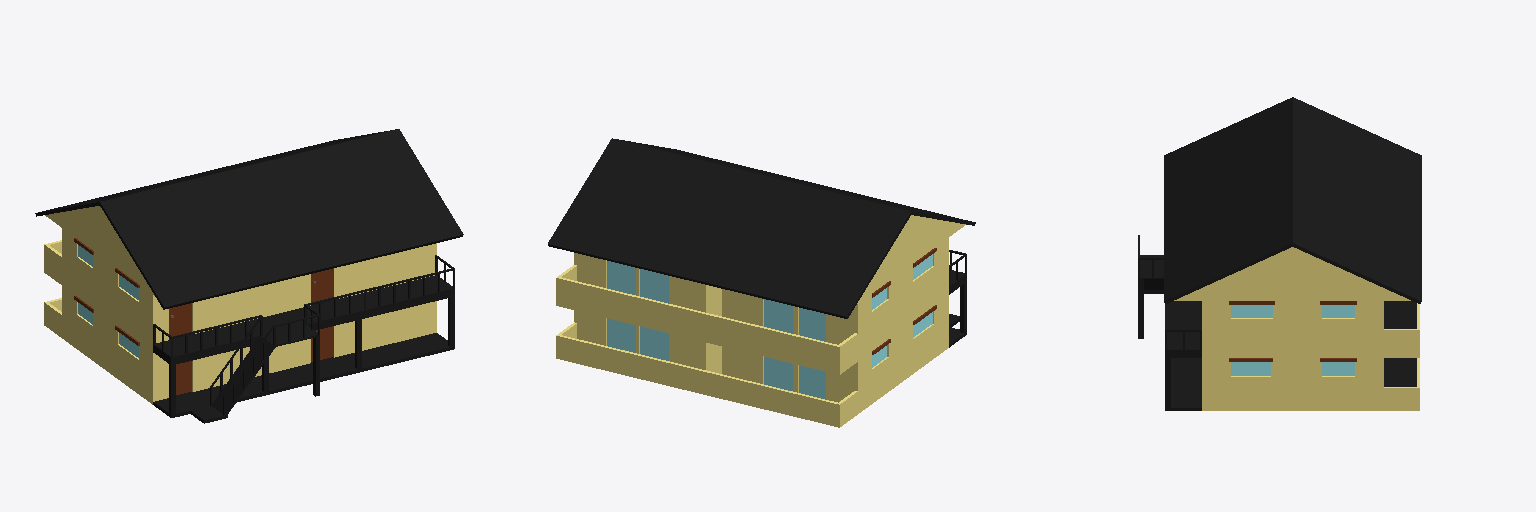
File: home1.obj
3 renders of one model, left to right at view 1: azimuth 30°, elevation 25°; view 2: azimuth 150°, elevation 25°; view 3: azimuth 270°, elevation 25°, orthographic.
Visible parts, largest first — view 1: Home1; view 2: Home1; view 3: Home1.
Boxes of the visible parts, box(x1,y1,x2,y2) form: Home1: box(35, 129, 463, 423); Home1: box(548, 138, 975, 427); Home1: box(1138, 97, 1421, 410).
Bounding box in the file's own units: 190 × 104 × 156.